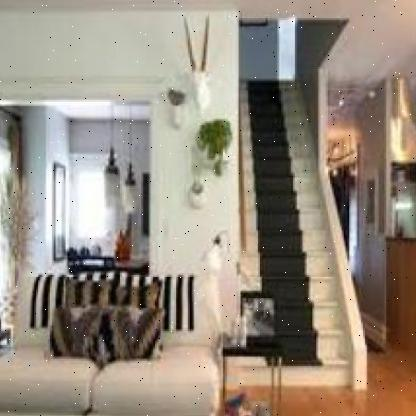stair_up: (225, 242, 367, 380)
